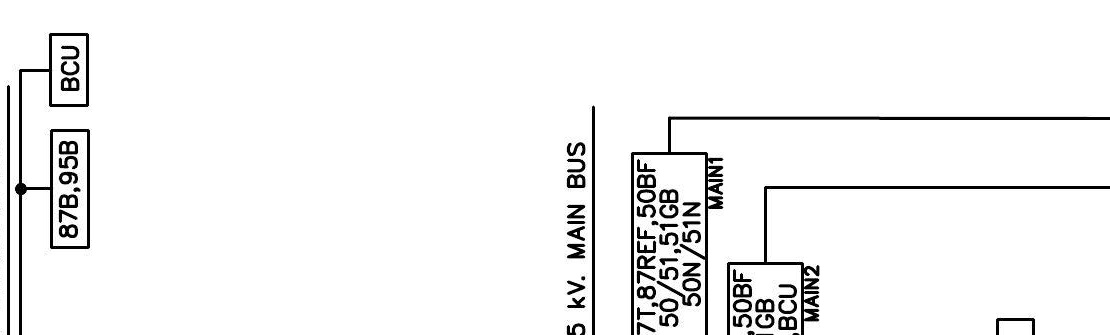BCU: (48, 32, 90, 108)
